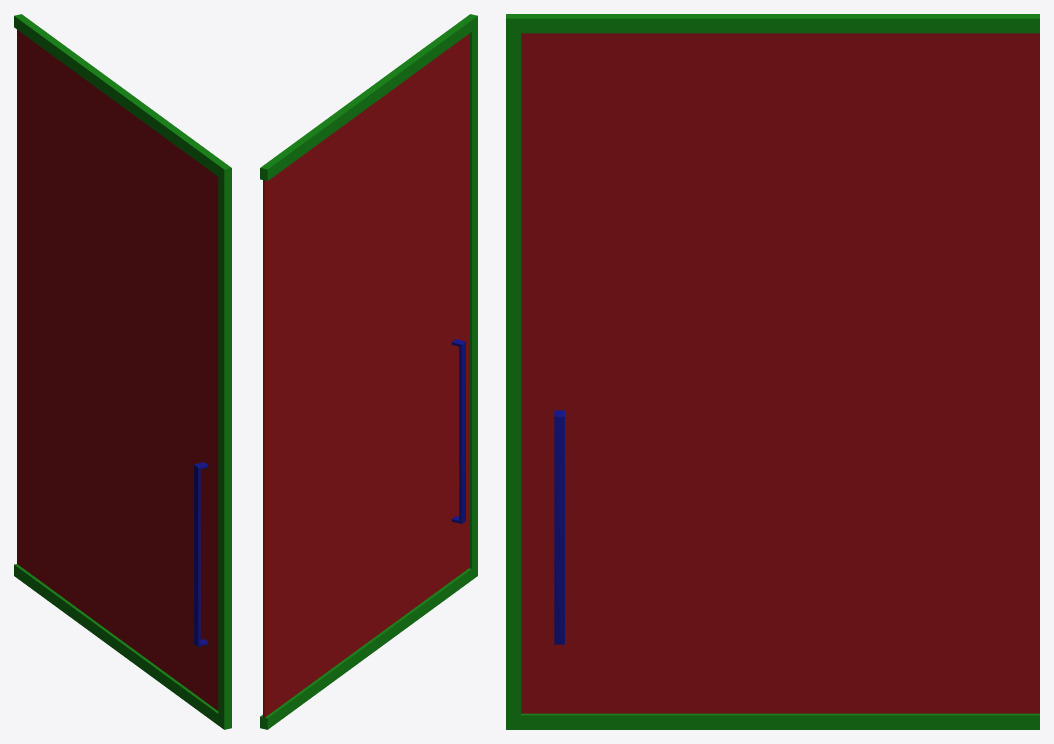
The model's file is FrontDoor_L_High.fbx.
3 views of the same model, side by side, from view 1: azimuth 30°, elevation 25°; view 2: azimuth 150°, elevation 25°; view 3: azimuth 270°, elevation 25° (orthographic). The views are drawn at different scales.
Visible parts, largest first — view 1: FrontDoor_L; view 2: FrontDoor_L; view 3: FrontDoor_L.
Boxes of the visible parts, <box> form: FrontDoor_L: <box>14,14,231,729</box>; FrontDoor_L: <box>260,14,477,729</box>; FrontDoor_L: <box>506,14,1039,729</box>.
Size of the model in its own units: 11.77 by 287 by 196.
